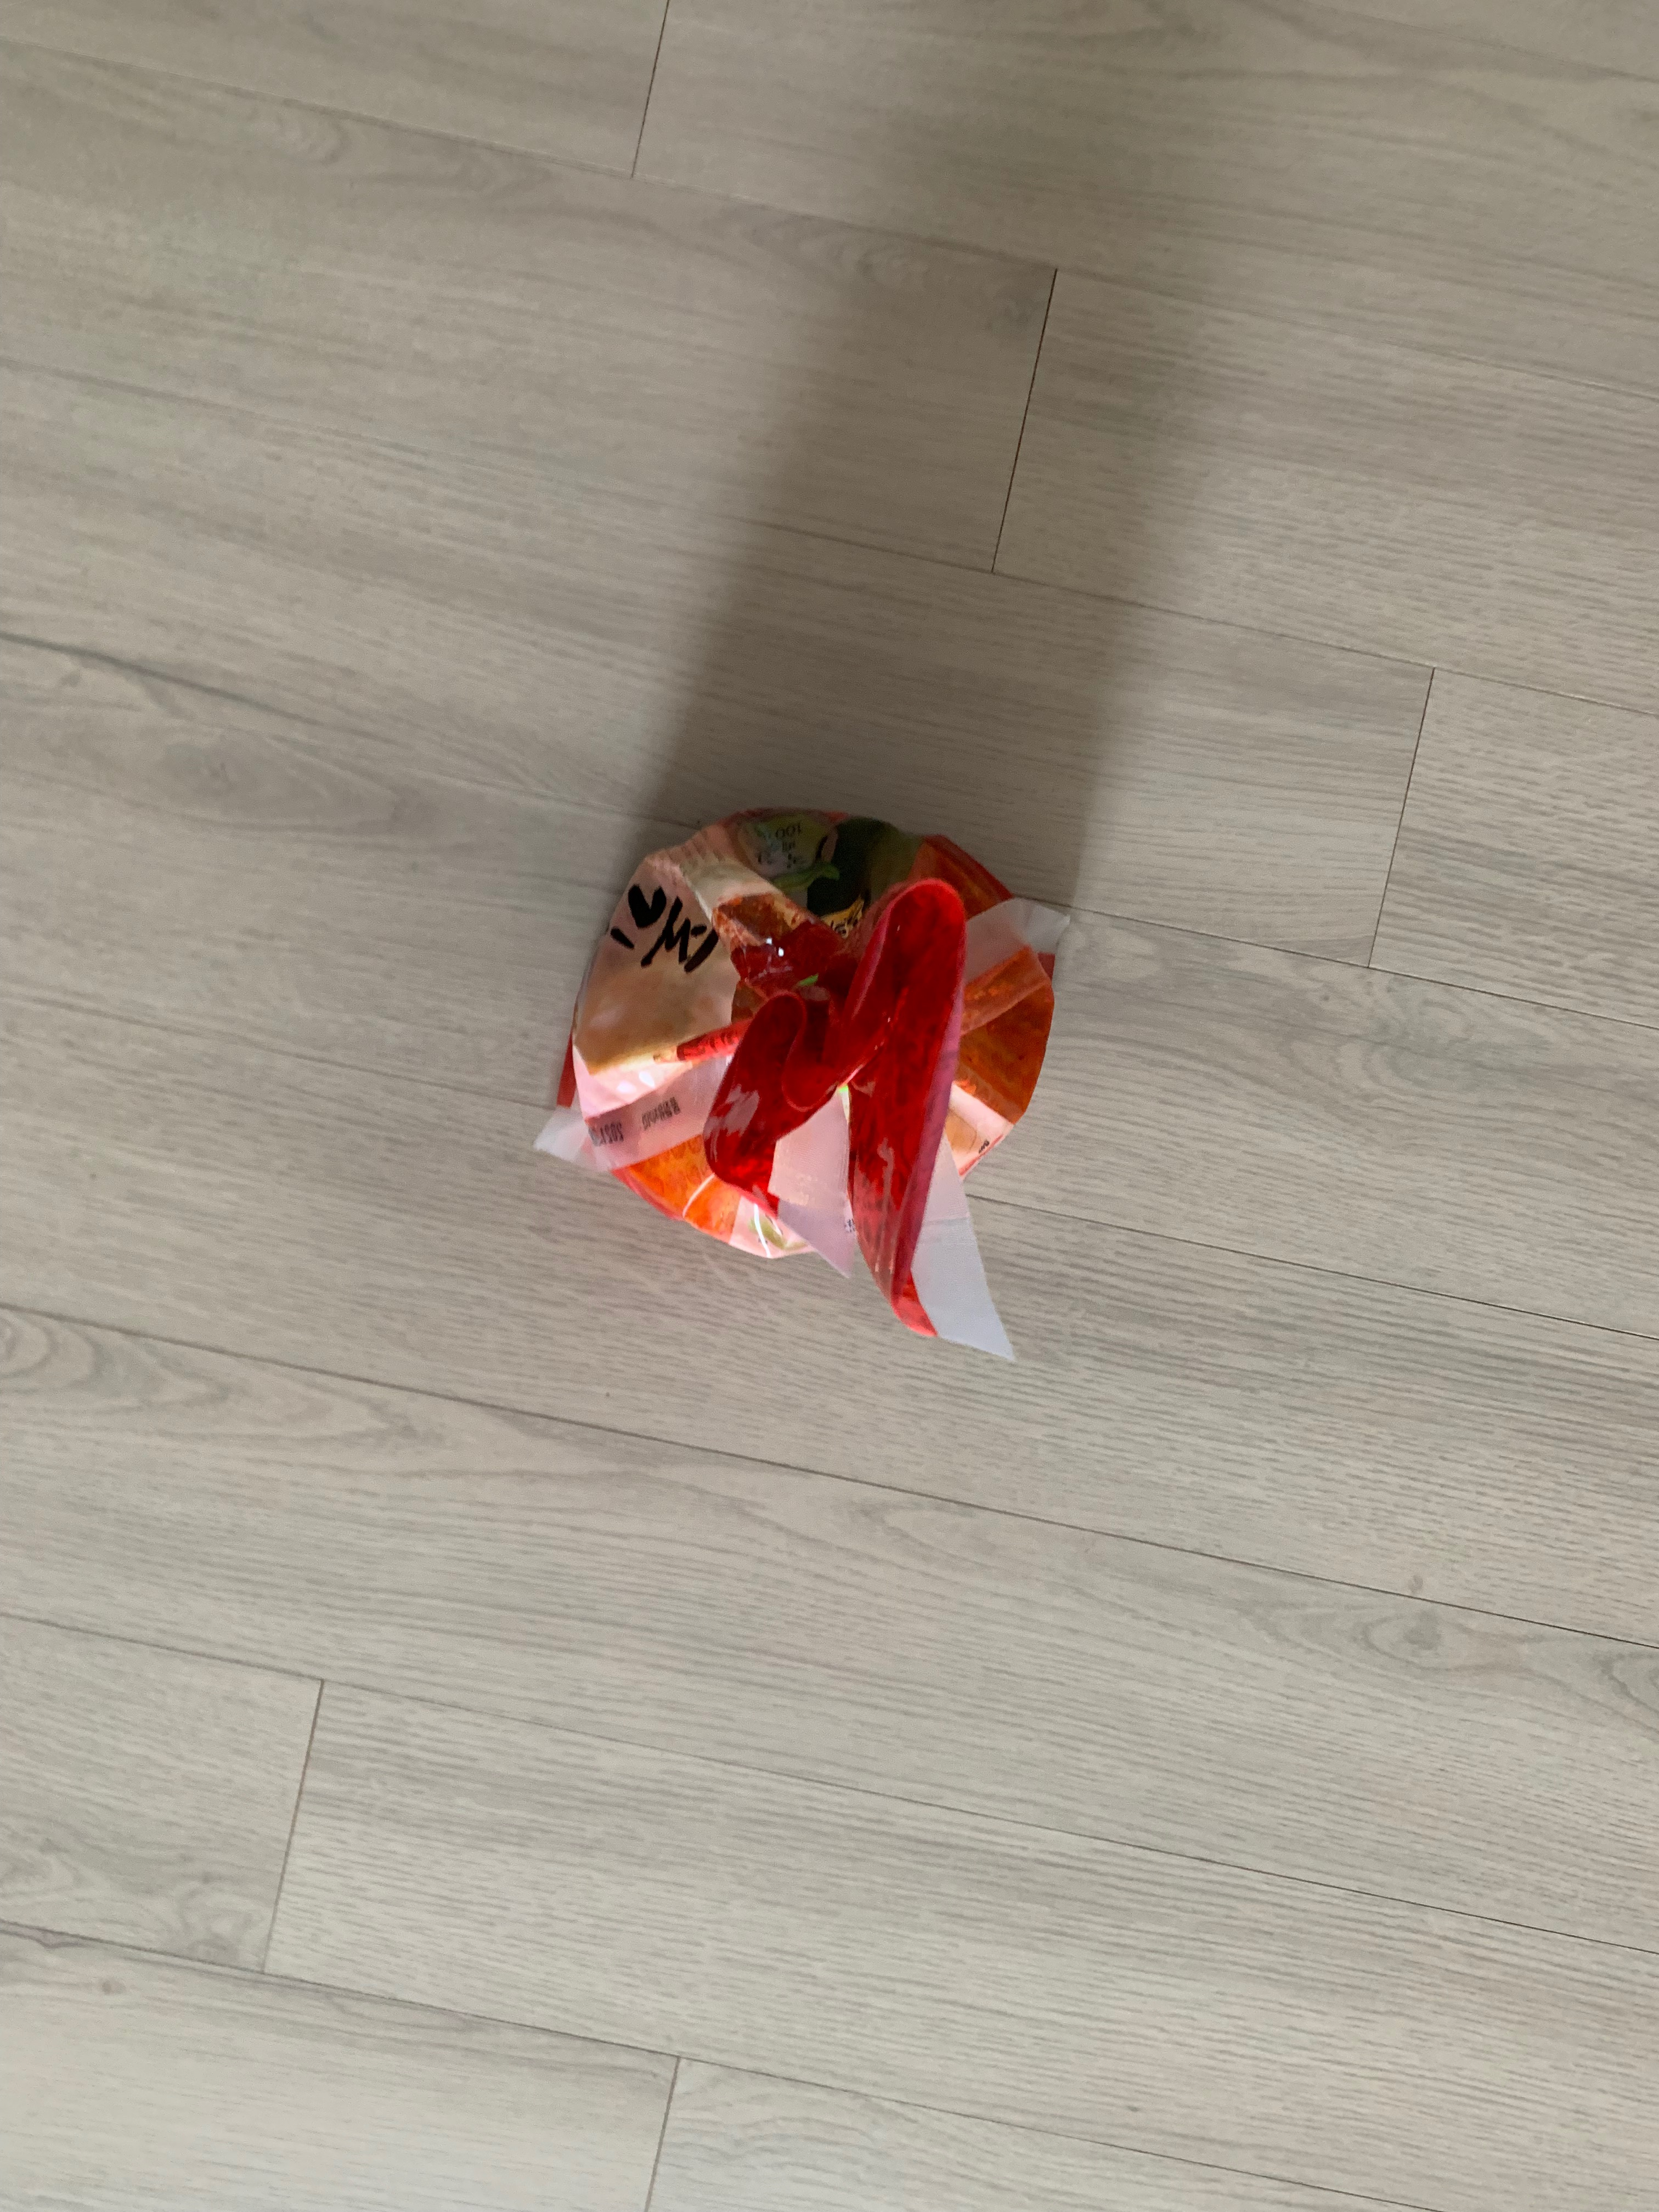kimchi: (552, 806, 1060, 1325)
